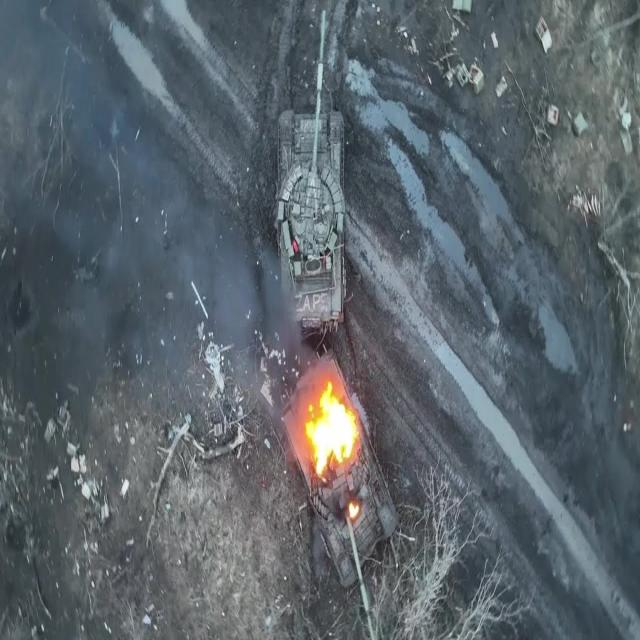destroyed: (281, 358, 399, 591)
tank: (275, 108, 345, 335)
